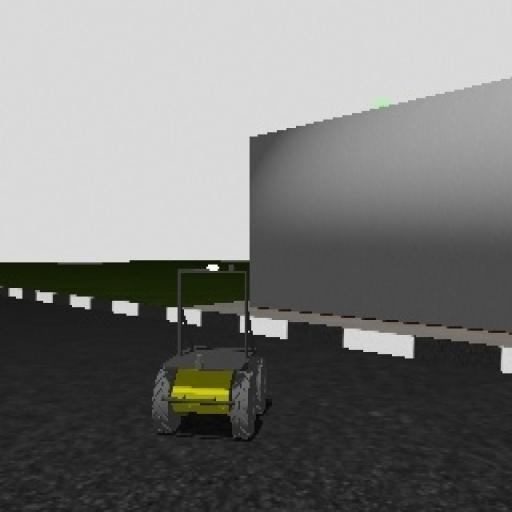huskya200: (140, 260, 275, 448)
